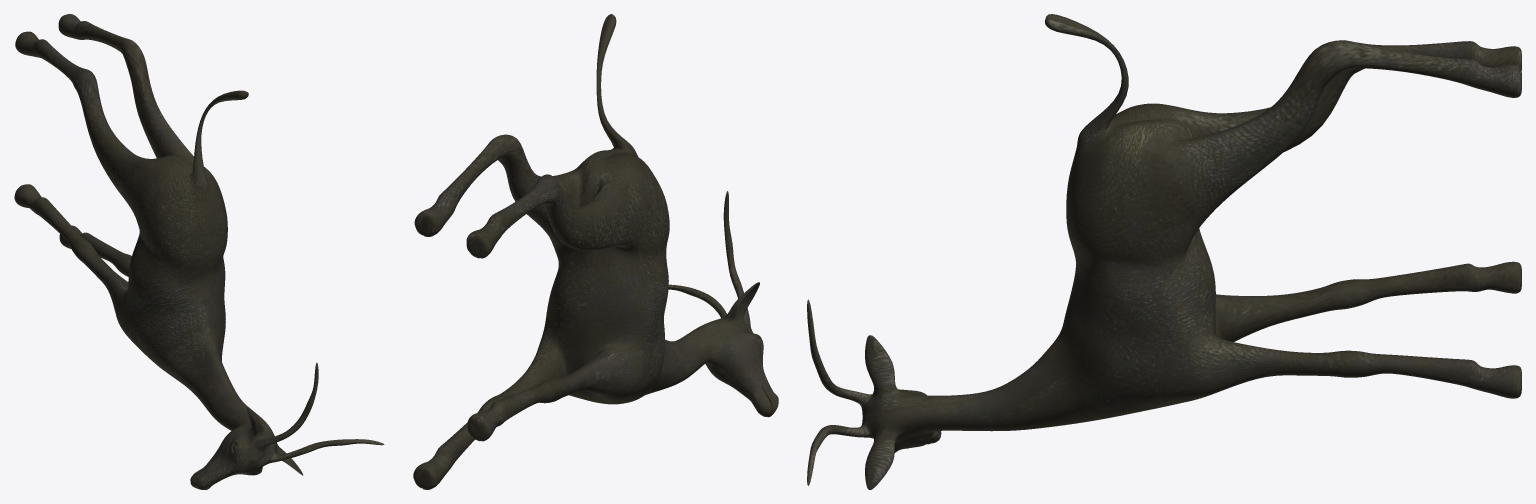
Rendered from 10020_Gazelle_v04.obj.
3 renders of one model, left to right at view 1: azimuth 30°, elevation 25°; view 2: azimuth 150°, elevation 25°; view 3: azimuth 270°, elevation 25°, orthographic. The views are drawn at different scales.
Visible parts, largest first — view 1: 10020_Gazelle_v04; view 2: 10020_Gazelle_v04; view 3: 10020_Gazelle_v04.
Boxes of the visible parts, <box> form: 10020_Gazelle_v04: <box>14,14,384,489</box>; 10020_Gazelle_v04: <box>413,14,778,489</box>; 10020_Gazelle_v04: <box>807,14,1521,489</box>.
Size of the model in its own units: 41.42 by 90.93 by 120.
Materials: 1 (1 with a texture image).
